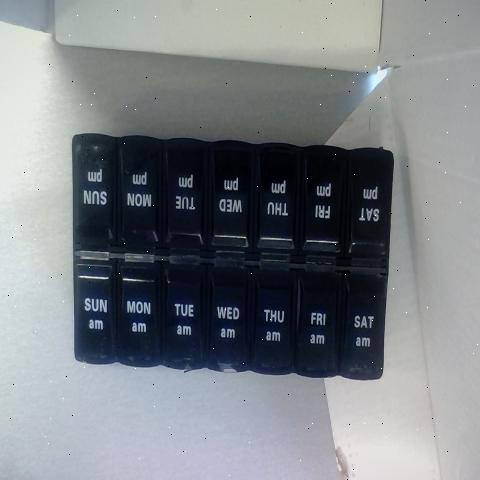FRI-am: (300, 282, 336, 376)
FRI-pm: (305, 153, 339, 260)
MON-am: (115, 261, 159, 364)
MON-pm: (116, 141, 157, 252)
SAT-am: (342, 282, 382, 378)
SAT-pm: (350, 156, 388, 266)
SUN-am: (76, 266, 110, 363)
SUN-pm: (74, 139, 112, 251)
THU-am: (253, 272, 294, 367)
THU-pm: (258, 155, 298, 263)
TUE-am: (164, 265, 204, 369)
TUE-pm: (160, 145, 203, 255)
WED-am: (209, 266, 250, 370)
WED-pm: (210, 146, 251, 258)
